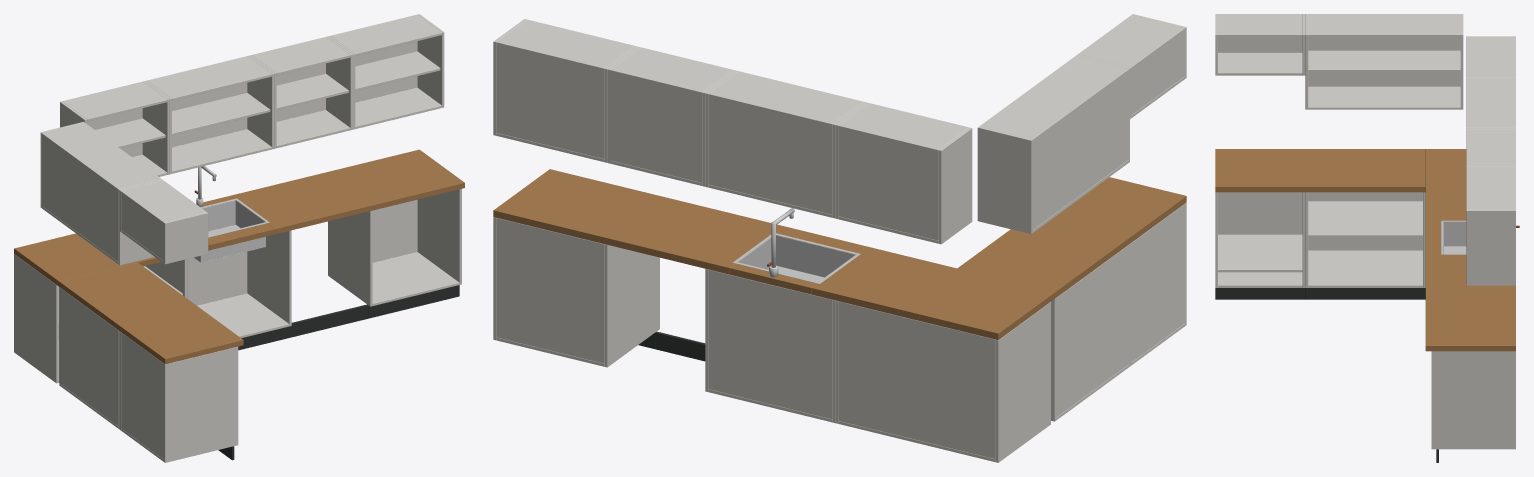
File: l_kitchen_cabinets_body.glb
The picture shows the model from 3 angles, left to right: view 1: azimuth 30°, elevation 25°; view 2: azimuth 150°, elevation 25°; view 3: azimuth 270°, elevation 25°; orthographic projection. The views are drawn at different scales.
Parts seen in each view (by area): view 1: l_kitchen_cabinets_body; view 2: l_kitchen_cabinets_body; view 3: l_kitchen_cabinets_body.
Boxes of the visible parts, <box> form: l_kitchen_cabinets_body: <box>14,14,464,462</box>; l_kitchen_cabinets_body: <box>493,14,1186,462</box>; l_kitchen_cabinets_body: <box>1215,14,1519,462</box>.
Size of the model in its own units: 3.1 by 1.85 by 2.03.
